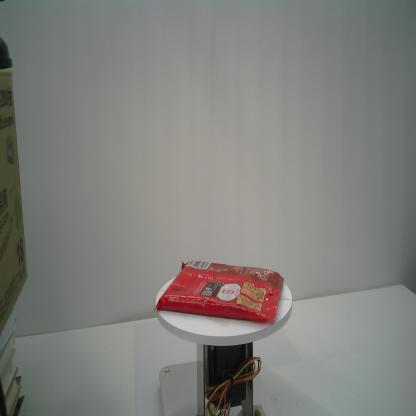Dessert: (153, 259, 285, 322)
